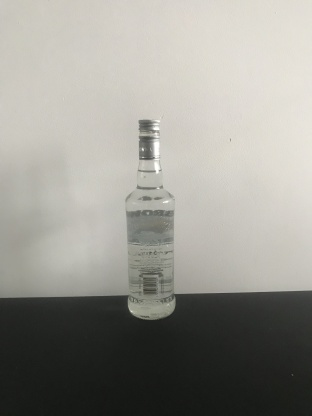nakretka: (137, 117, 161, 160)
